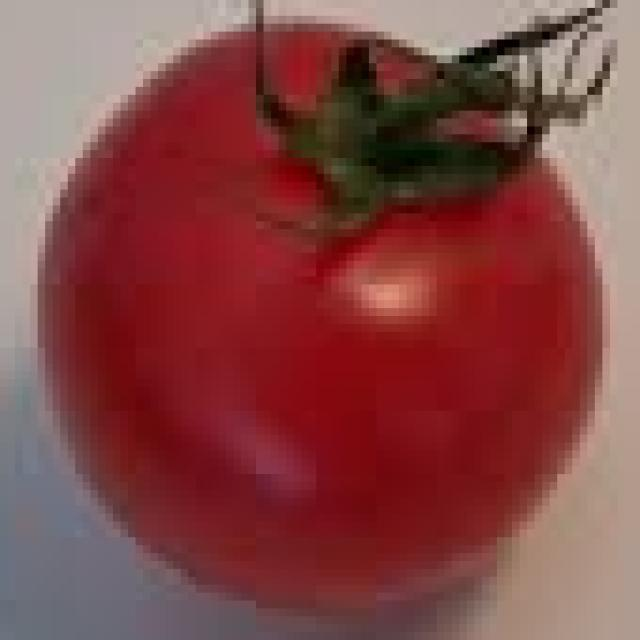Healthy: (19, 2, 622, 640)
